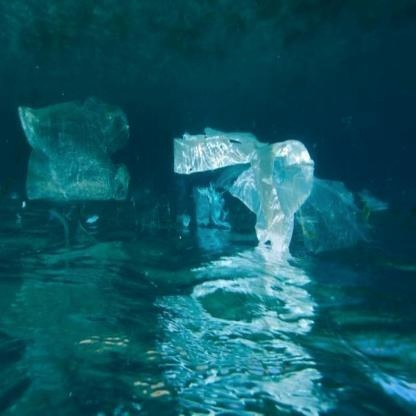pbag: (171, 125, 391, 258), (16, 96, 132, 202)
